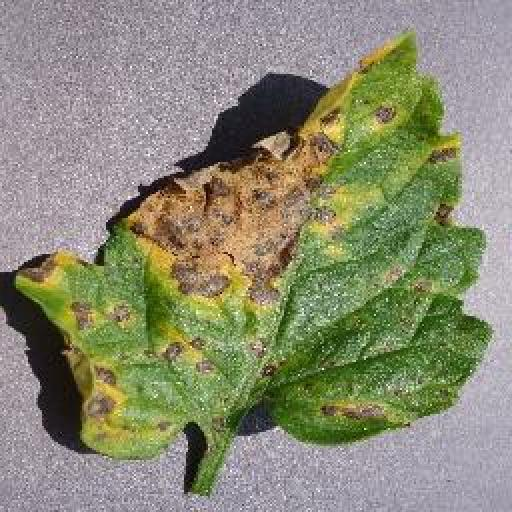Septoria: (15, 25, 492, 463)
